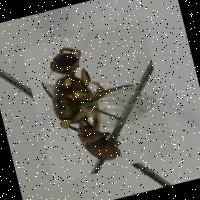Oriental-fruit-fly: (20, 18, 174, 182)
